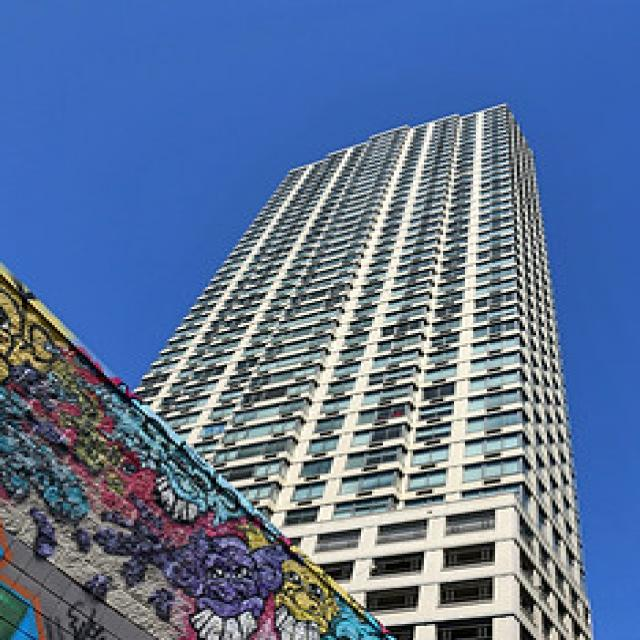Normal_building: (74, 98, 599, 640)
